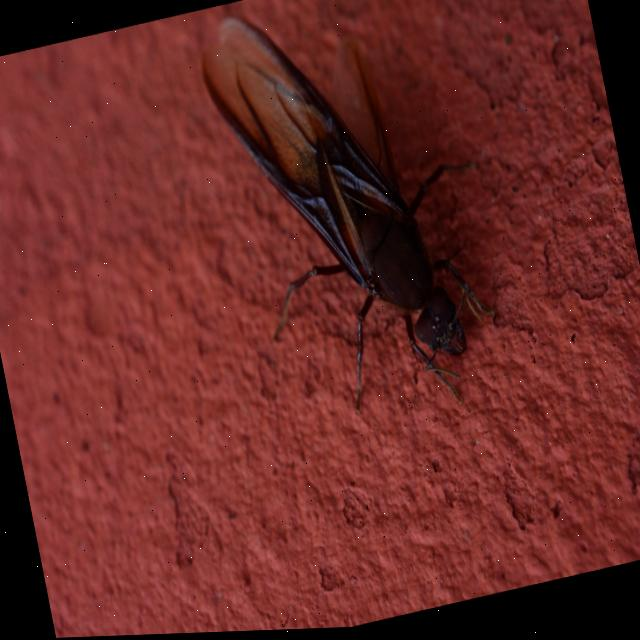Alive-Female-Alate: (190, 0, 519, 455)
